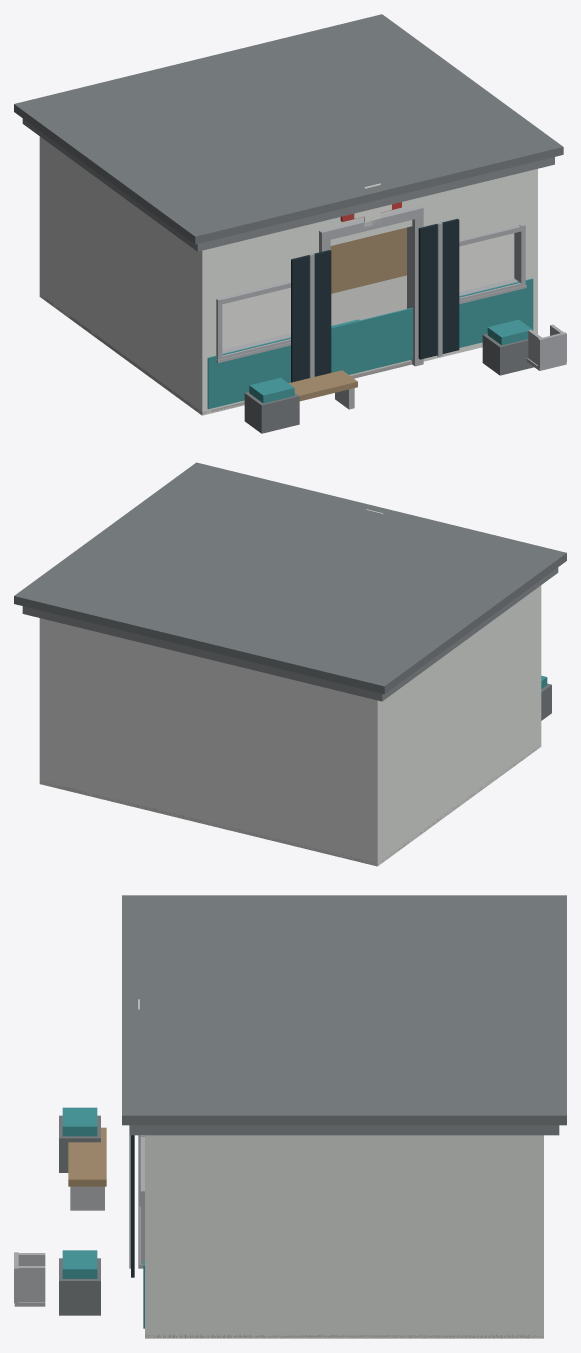
File: rv_clinic.gltf
3 views of the same model, one above another, from view 1: azimuth 30°, elevation 25°; view 2: azimuth 150°, elevation 25°; view 3: azimuth 270°, elevation 25° (orthographic). The views are drawn at different scales.
Visible parts, largest first — view 1: RV_Clinic; view 2: RV_Clinic; view 3: RV_Clinic.
Boxes of the visible parts, x1=… form: RV_Clinic: x1=14, y1=14, x2=566, y2=433; RV_Clinic: x1=14, y1=462, x2=566, y2=866; RV_Clinic: x1=14, y1=895, x2=566, y2=1338.
Size of the model in its own units: 6.8 by 3.98 by 7.21.
